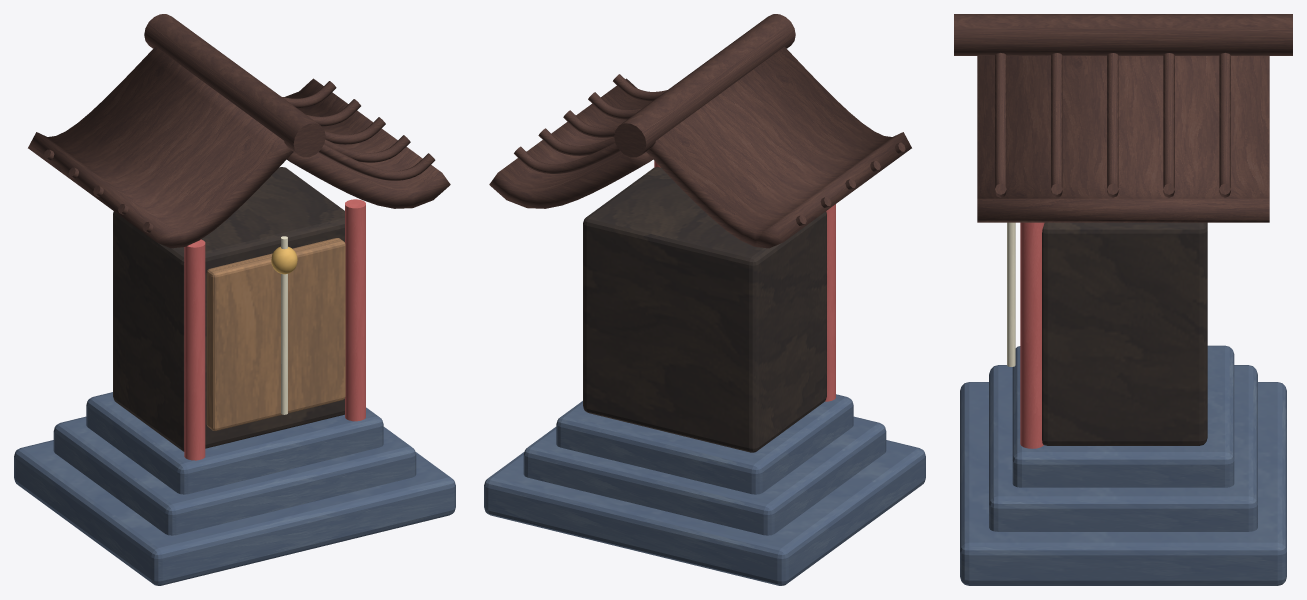
The model's file is shrine.glb.
The picture shows the model from 3 angles, left to right: view 1: azimuth 30°, elevation 25°; view 2: azimuth 150°, elevation 25°; view 3: azimuth 270°, elevation 25°; orthographic projection. The views are drawn at different scales.
Visible parts, largest first — view 1: shrine; view 2: shrine; view 3: shrine.
Boxes of the visible parts, x1,y1,x2,y2 form: shrine: [14, 14, 455, 585]; shrine: [484, 14, 925, 585]; shrine: [954, 14, 1292, 585].
Bounding box in the file's own units: 1.7 × 2.31 × 1.45.
Materials: 1 (1 with a texture image).
